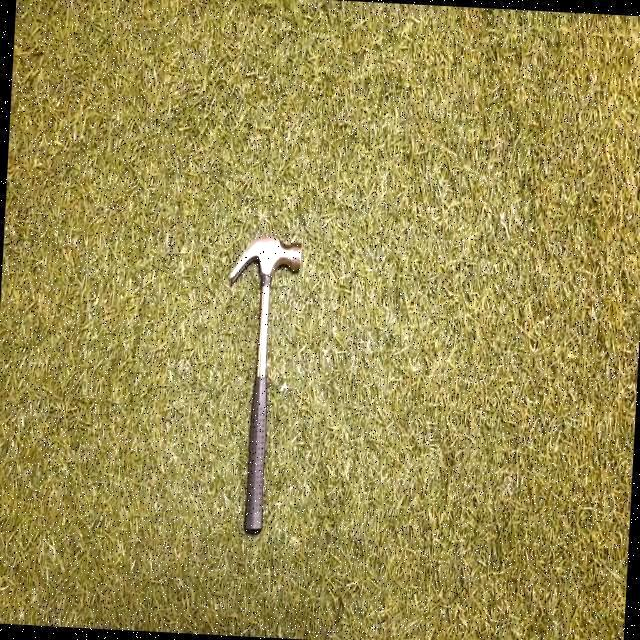hammer: (226, 235, 302, 533)
